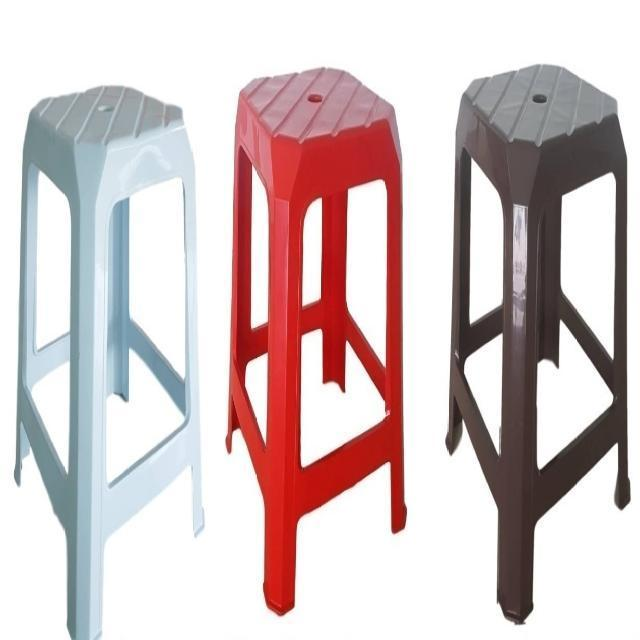chair: (14, 77, 211, 640), (444, 62, 634, 630), (224, 63, 415, 620)
